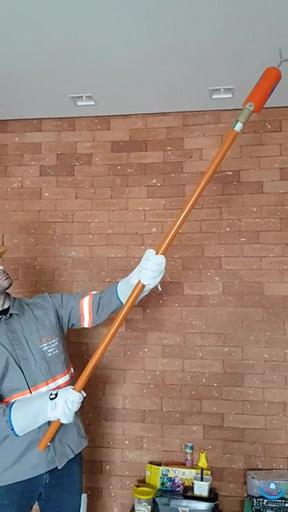Detector_Tensao_Contato: (241, 49, 288, 111)
Vara_Manobra: (39, 111, 251, 453)
